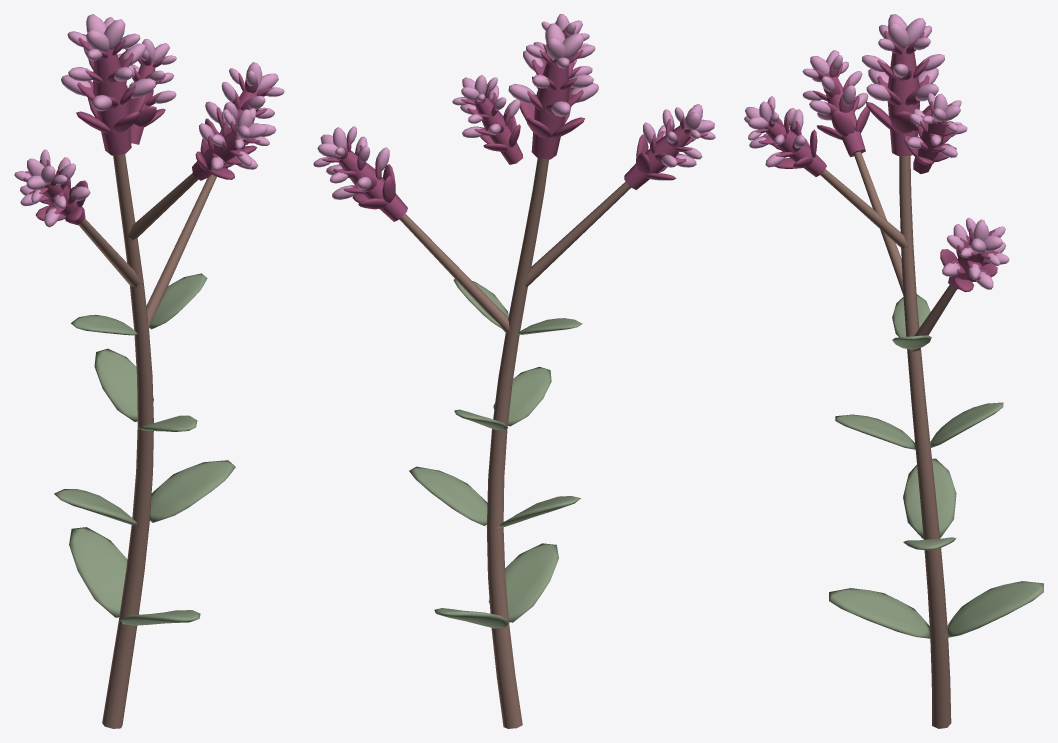
The model's file is чай9вруке.fbx.
The picture shows the model from 3 angles, left to right: view 1: azimuth 30°, elevation 25°; view 2: azimuth 150°, elevation 25°; view 3: azimuth 270°, elevation 25°; orthographic projection. The views are drawn at different scales.
Visible parts, largest first — view 1: Душица_Колоски, Душица_Листья, Душица_Стебель; view 2: Душица_Колоски, Душица_Стебель, Душица_Листья; view 3: Душица_Колоски, Душица_Листья, Душица_Стебель.
Boxes of the visible parts, x1,y1,x2,y2 form: Душица_Колоски: [14, 14, 284, 227]; Душица_Листья: [54, 273, 235, 625]; Душица_Стебель: [78, 154, 216, 728]; Душица_Колоски: [313, 14, 715, 221]; Душица_Стебель: [399, 158, 630, 728]; Душица_Листья: [409, 279, 582, 628]; Душица_Колоски: [744, 14, 1009, 292]; Душица_Листья: [829, 294, 1043, 638]; Душица_Стебель: [820, 151, 956, 728].
Bounding box in the file's own units: 0.799 × 1.67 × 0.6538.
